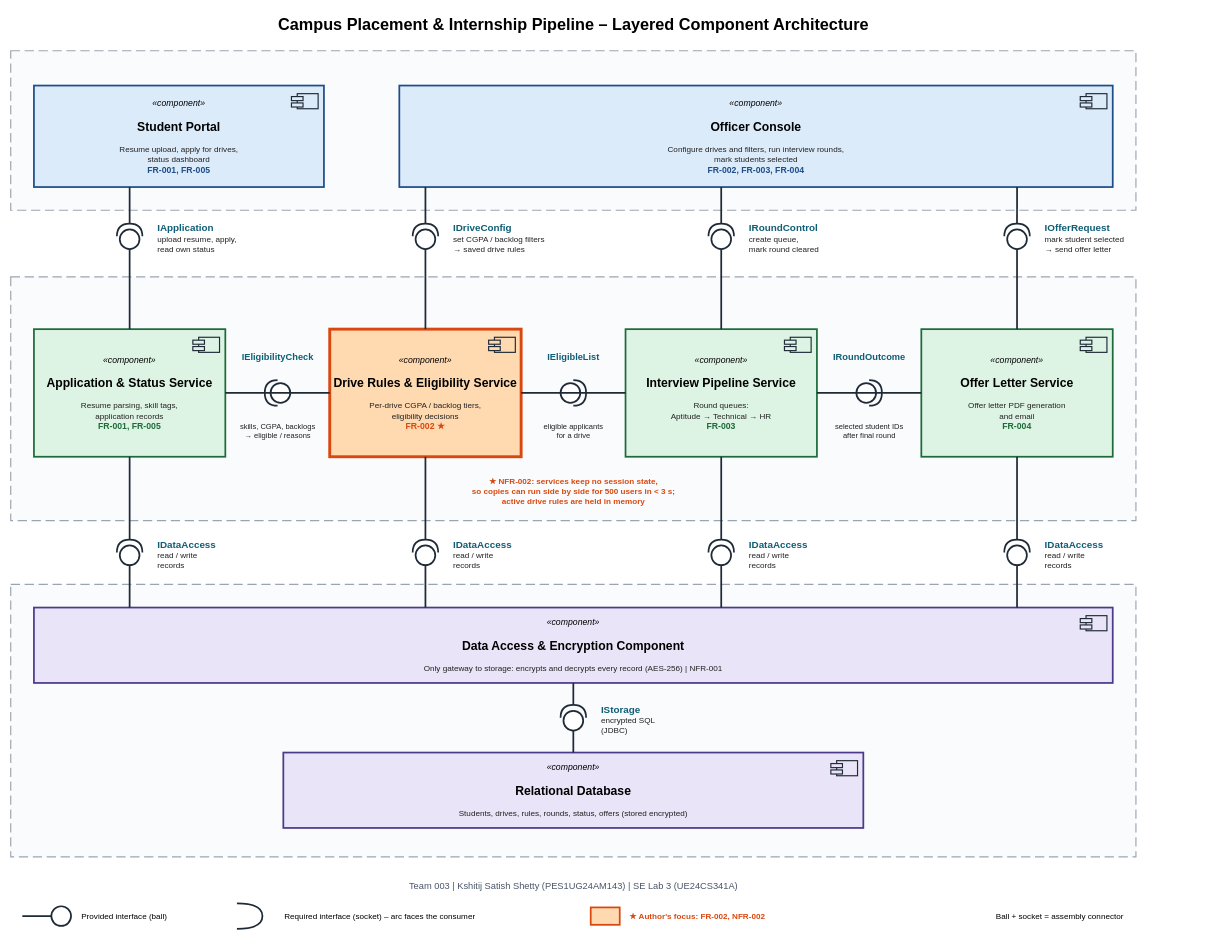
The diagram is 1227 pixels wide and 940 high, and some of its shapes have lost their labels. Here are the shapes that lost their labels. From the top down, the box of each, then its label:
(10, 50, 1136, 211): Presentation Layer
(10, 276, 1136, 521): Business Layer (stateless services)
(10, 583, 1136, 857): Data Layer
